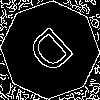D: (25, 25, 83, 83)
